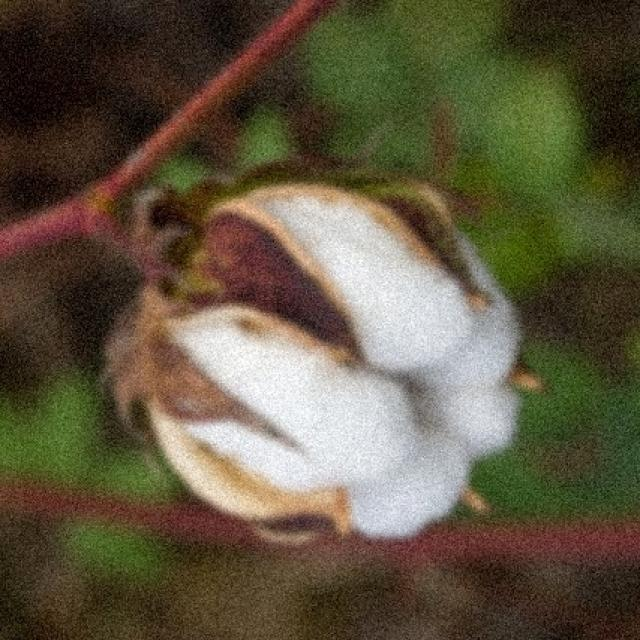Split Cotton Boll: (135, 162, 539, 532)
